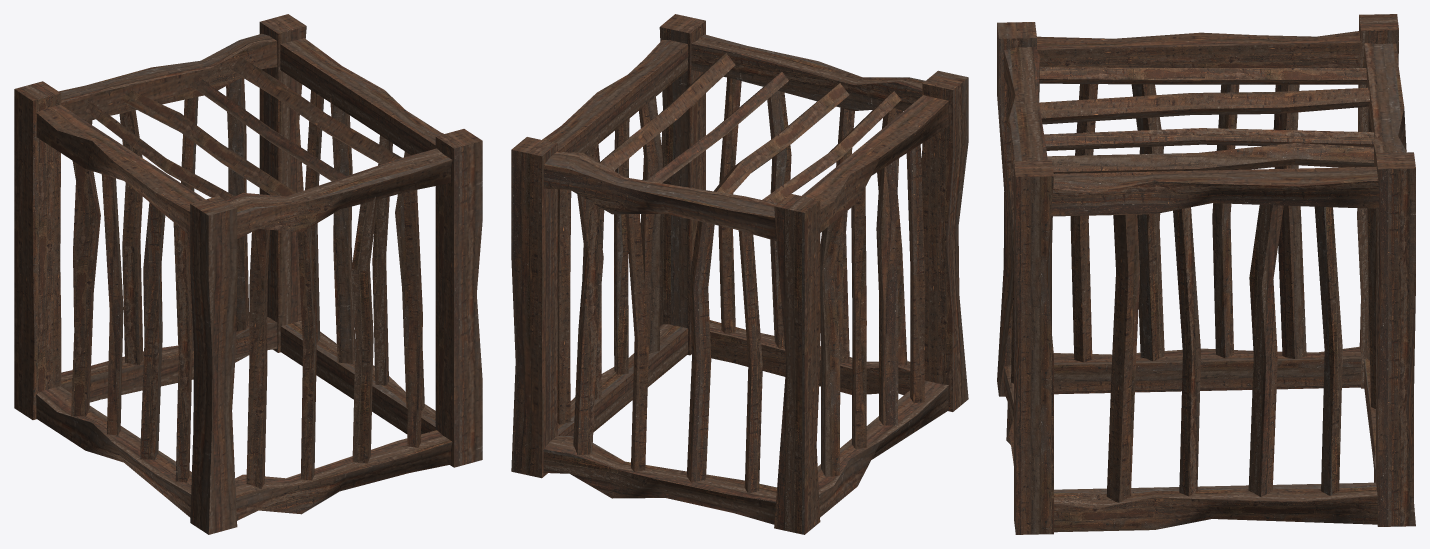
File: SM_Kafes_2.fbx
The picture shows the model from 3 angles, left to right: view 1: azimuth 30°, elevation 25°; view 2: azimuth 150°, elevation 25°; view 3: azimuth 270°, elevation 25°; orthographic projection. The views are drawn at different scales.
Visible parts, largest first — view 1: polySurface1312; view 2: polySurface1312; view 3: polySurface1312.
Boxes of the visible parts, left/top/right/bottom form: polySurface1312: left=14, top=14, right=482, bottom=534; polySurface1312: left=511, top=14, right=968, bottom=534; polySurface1312: left=997, top=14, right=1415, bottom=534.
Bounding box in the file's own units: 39.66 × 41.32 × 43.04.
